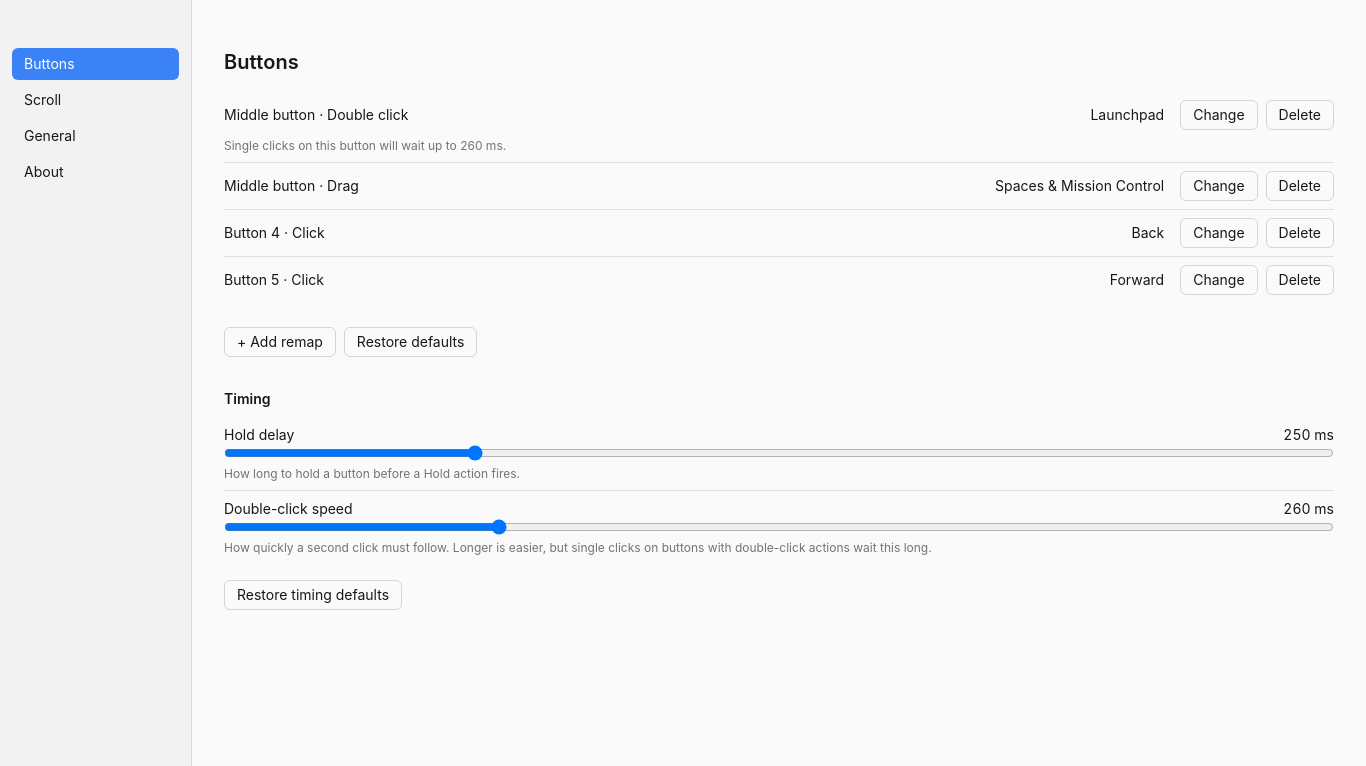
Test case: Buttons page › a failed add keeps the panel open and shows why
Click the button "+ Add remap": (280,342) x1=224 y1=327 x2=336 y2=357
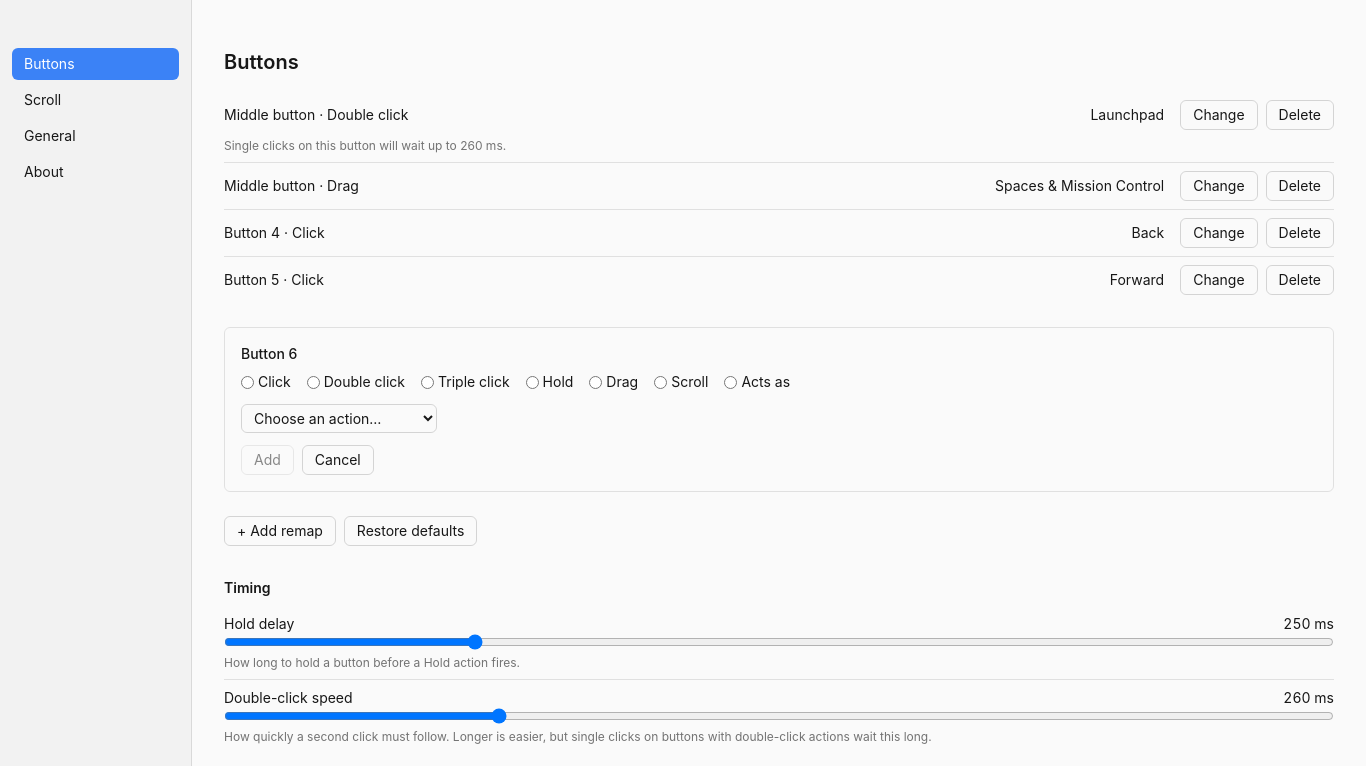
Click the radio button labelled "Click": (248,382) x1=241 y1=376 x2=254 y2=388
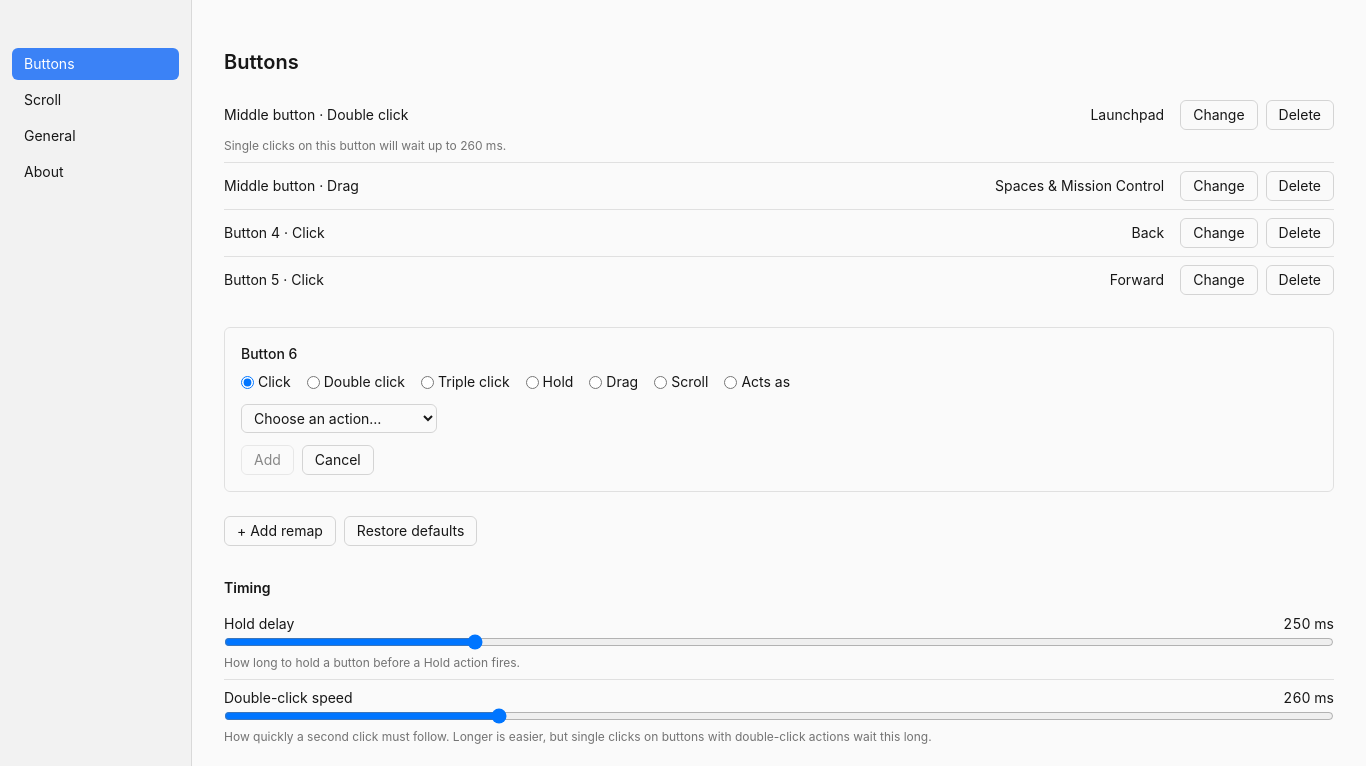
Select "Spotlight" in the dropdown named "Action": (339,418) x1=241 y1=404 x2=437 y2=433
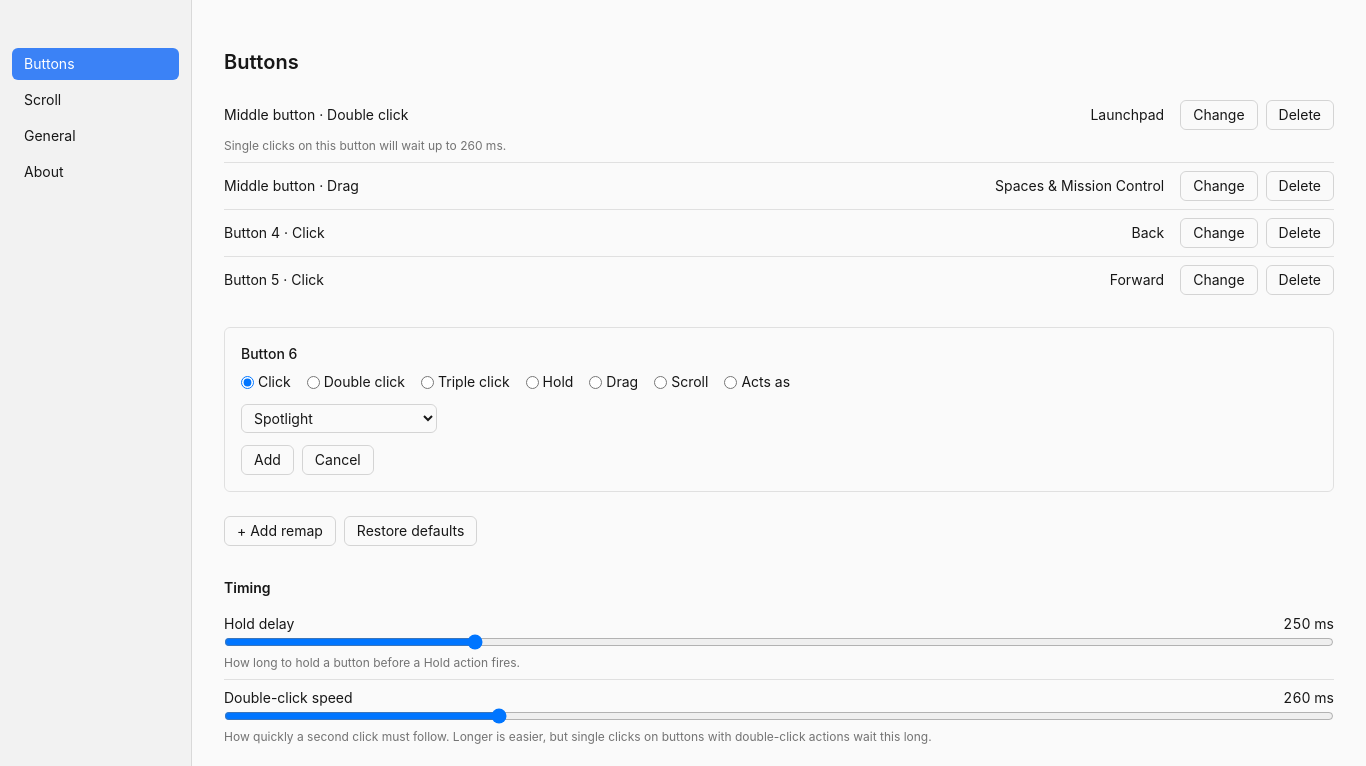
Click the button "Add": (267,460) x1=241 y1=445 x2=294 y2=475
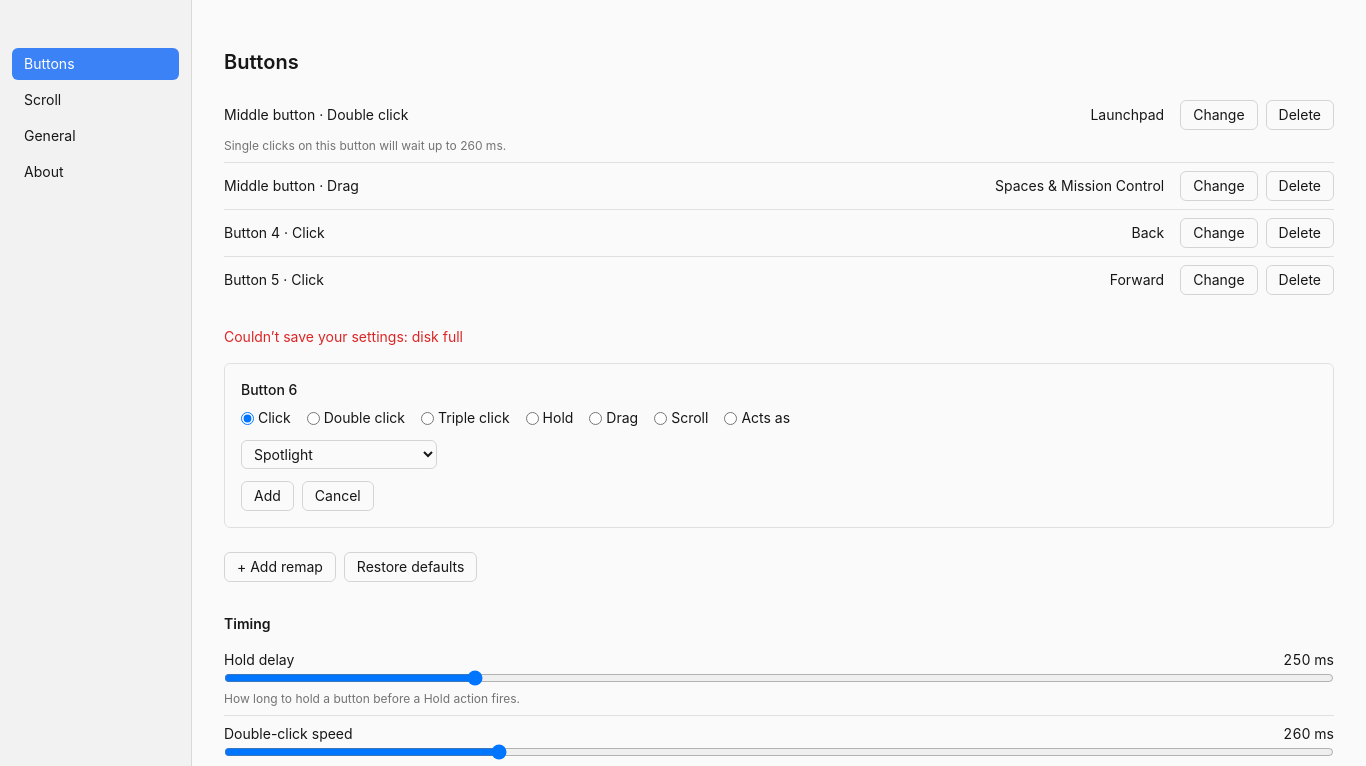
expect the button "Add" is shown: met, box x1=241 y1=481 x2=294 y2=511
expect the text "Couldn’t save your settings: disk full" is shown: met, box x1=224 y1=328 x2=463 y2=345
